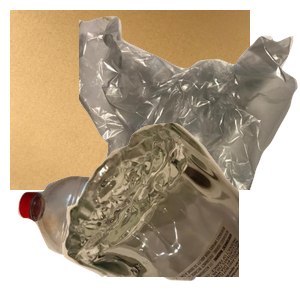cardboard: (10, 10, 250, 190)
glass: (60, 120, 300, 300)
plastic: (15, 173, 222, 300)
trash: (79, 14, 300, 194)
